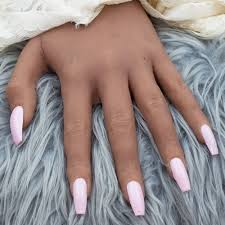nail: (125, 179, 148, 216), (70, 177, 90, 215), (170, 158, 191, 193), (9, 104, 25, 145), (201, 122, 219, 156)
